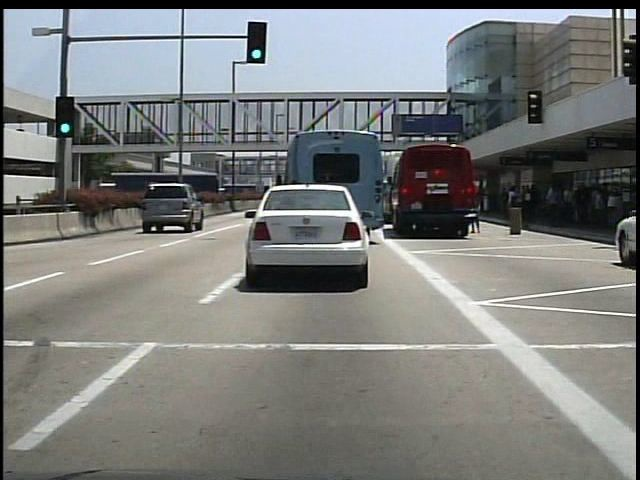person: (471, 182, 484, 237)
